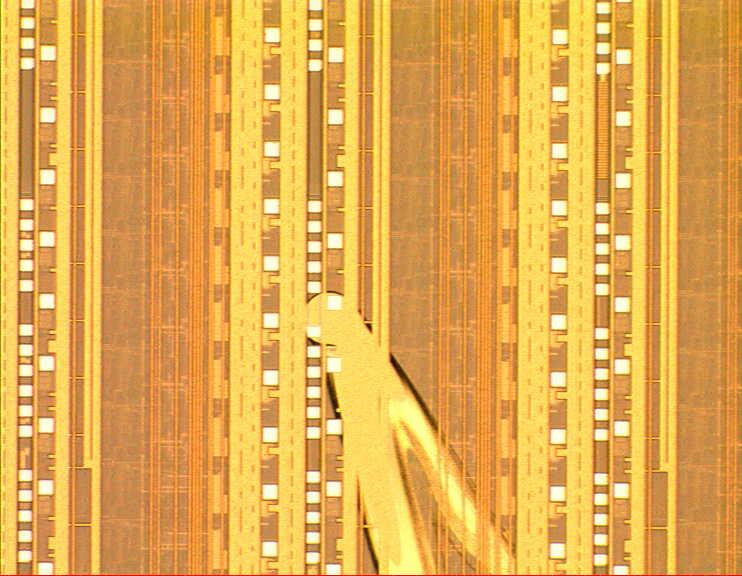COATING BAD: (291, 282, 531, 576)
